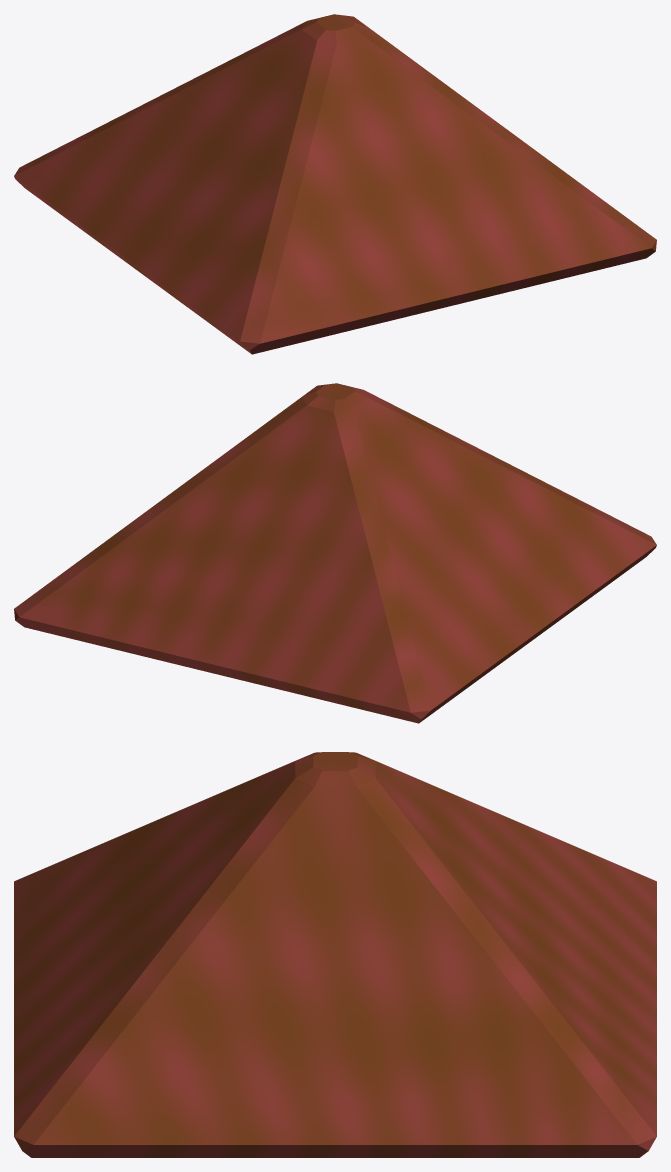
File: PointedRoof.glb
3 views of the same model, one above another, from view 1: azimuth 30°, elevation 25°; view 2: azimuth 150°, elevation 25°; view 3: azimuth 270°, elevation 25° (orthographic). The views are drawn at different scales.
Parts seen in each view (by area): view 1: PointedRoof; view 2: PointedRoof; view 3: PointedRoof.
Boxes of the visible parts, x1,y1,x2,y2 form: PointedRoof: [14, 14, 656, 354]; PointedRoof: [14, 383, 656, 723]; PointedRoof: [14, 752, 656, 1157].
Bounding box in the file's own units: 1.31 × 0.6012 × 1.31.
1 material, 1 textured.
